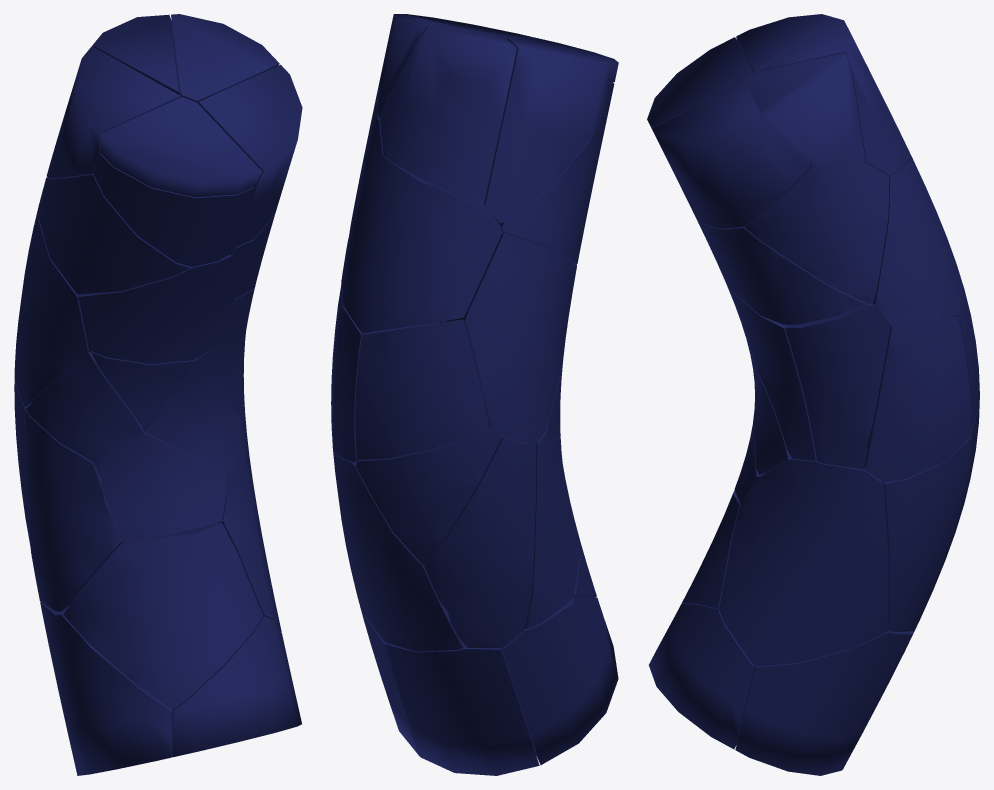
Rendered from VolumeShredded1.fbx.
3 views of the same model, side by side, from view 1: azimuth 30°, elevation 25°; view 2: azimuth 150°, elevation 25°; view 3: azimuth 270°, elevation 25° (orthographic). The views are drawn at different scales.
Visible parts, largest first — view 1: Volume1_cell.024, Volume1_cell.026, Volume1_cell.010, Volume1_cell.012, Volume1_cell.028, Volume1_cell.008, Volume1_cell.011, Volume1_cell.023, Volume1_cell, Volume1_cell.021, Volume1_cell.030, Volume1_cell.016 (+9 smaller); view 2: Volume1_cell.014, Volume1_cell.007, Volume1_cell.030, Volume1_cell.029, Volume1_cell.002, Volume1_cell.006, Volume1_cell.016, Volume1_cell.026, Volume1_cell.020, Volume1_cell.025, Volume1_cell.010, Volume1_cell.011 (+8 smaller); view 3: Volume1_cell.005, Volume1_cell.015, Volume1_cell.021, Volume1_cell.031, Volume1_cell.009, Volume1_cell.013, Volume1_cell.020, Volume1_cell.008, Volume1_cell.014, Volume1_cell.018, Volume1_cell.017, Volume1_cell.007 (+7 smaller).
Part boxes in pixels (bbox=[...]): Volume1_cell.024: bbox=[63, 522, 263, 709]; Volume1_cell.026: bbox=[40, 601, 173, 775]; Volume1_cell.010: bbox=[25, 409, 123, 611]; Volume1_cell.012: bbox=[78, 255, 234, 364]; Volume1_cell.028: bbox=[99, 97, 262, 197]; Volume1_cell.008: bbox=[173, 616, 301, 757]; Volume1_cell.011: bbox=[39, 173, 190, 294]; Volume1_cell.023: bbox=[94, 429, 227, 541]; Volume1_cell: bbox=[93, 153, 254, 266]; Volume1_cell.021: bbox=[198, 64, 302, 246]; Volume1_cell.030: bbox=[14, 187, 90, 406]; Volume1_cell.016: bbox=[46, 46, 180, 178]; Volume1_cell.014: bbox=[341, 156, 502, 333]; Volume1_cell.007: bbox=[380, 27, 516, 204]; Volume1_cell.030: bbox=[446, 233, 576, 444]; Volume1_cell.029: bbox=[424, 428, 536, 648]; Volume1_cell.002: bbox=[355, 319, 489, 459]; Volume1_cell.006: bbox=[385, 643, 539, 775]; Volume1_cell.016: bbox=[484, 39, 610, 223]; Volume1_cell.026: bbox=[500, 596, 618, 764]; Volume1_cell.020: bbox=[332, 444, 464, 651]; Volume1_cell.025: bbox=[355, 427, 501, 565]; Volume1_cell.010: bbox=[525, 437, 580, 628]; Volume1_cell.011: bbox=[493, 115, 605, 263]; Volume1_cell.005: bbox=[719, 459, 888, 666]; Volume1_cell.015: bbox=[735, 630, 911, 775]; Volume1_cell.021: bbox=[652, 82, 810, 228]; Volume1_cell.031: bbox=[864, 316, 971, 482]; Volume1_cell.009: bbox=[744, 162, 889, 303]; Volume1_cell.013: bbox=[785, 303, 890, 469]; Volume1_cell.020: bbox=[881, 440, 971, 632]; Volume1_cell.008: bbox=[649, 603, 756, 749]; Volume1_cell.014: bbox=[872, 156, 961, 325]; Volume1_cell.018: bbox=[745, 52, 865, 164]; Volume1_cell.017: bbox=[698, 222, 865, 324]; Volume1_cell.007: bbox=[759, 17, 911, 175].
Bounding box in the file's own units: 32.2 × 114 × 47.68.
